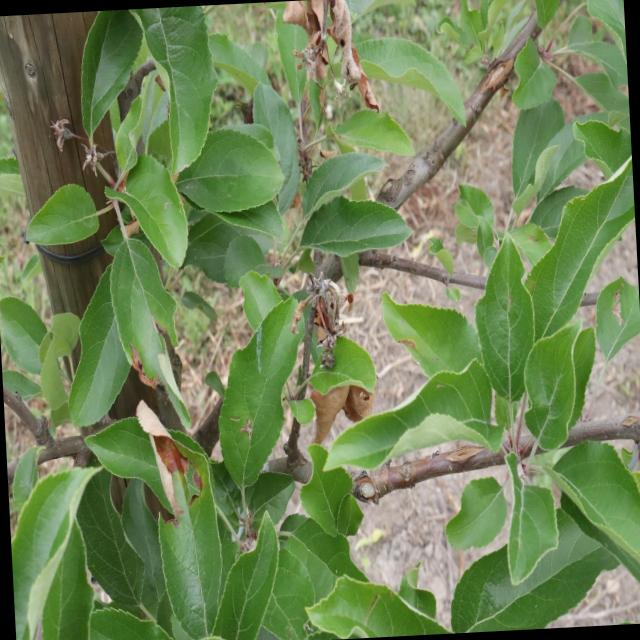-FireBlight-: (288, 0, 364, 105), (152, 396, 204, 496), (312, 372, 386, 438), (305, 266, 356, 346)
